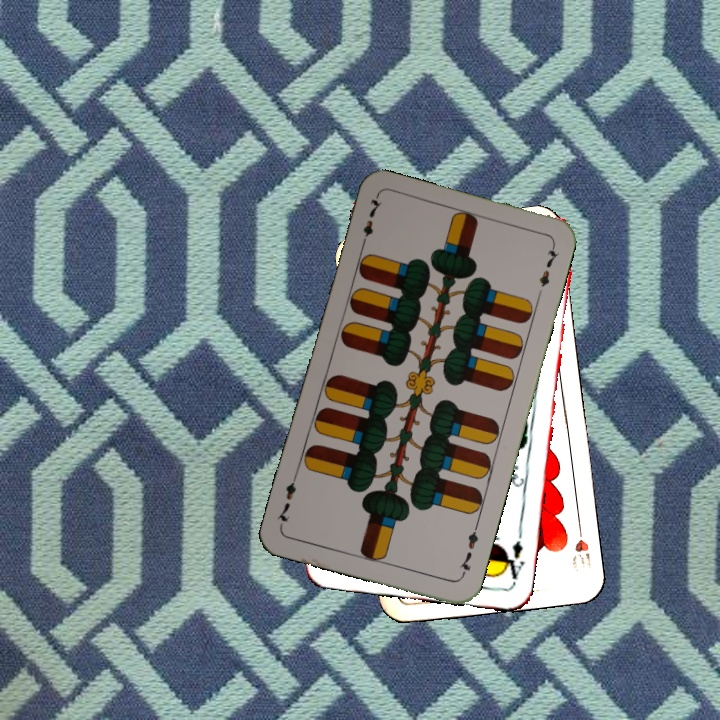E7: (357, 193, 385, 251), (455, 522, 481, 580)
EA: (498, 537, 527, 582)
H10: (568, 518, 594, 571)
